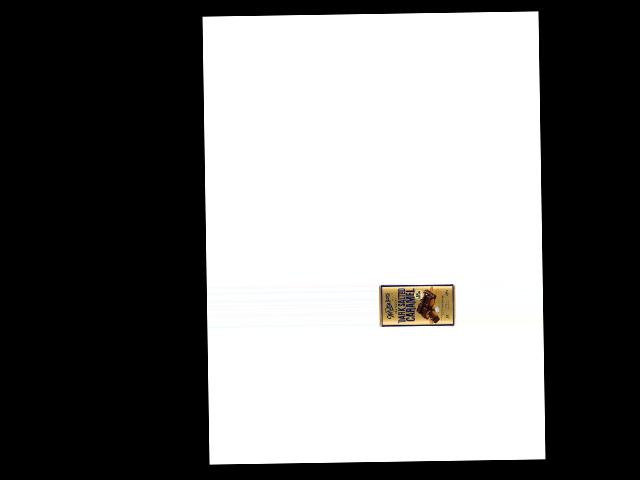chocolate: (379, 280, 457, 328)
